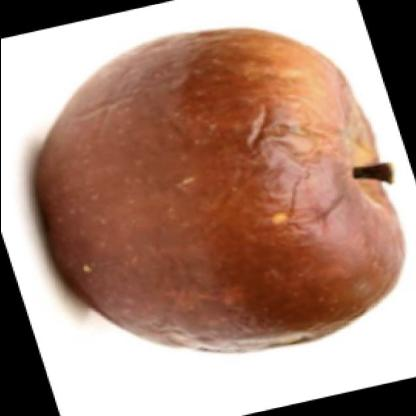defect: (136, 23, 328, 238)
